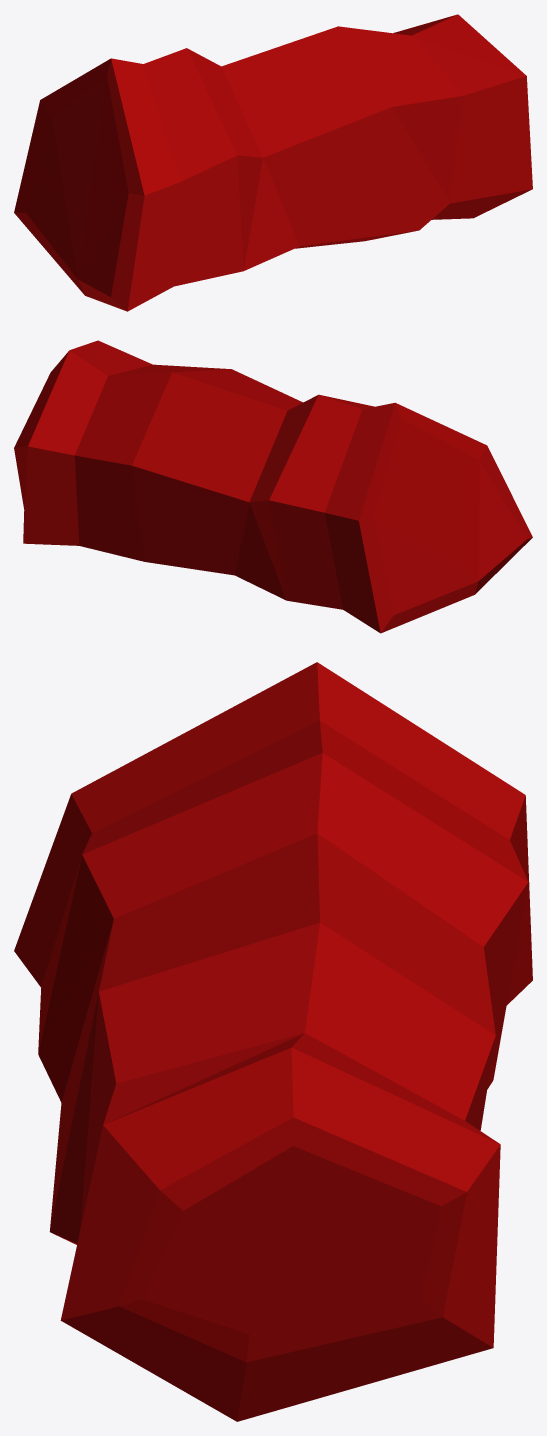
File: Chr_ArmUpperLeft_Male_Static_14.fbx
3 renders of one model, top to bottom at view 1: azimuth 30°, elevation 25°; view 2: azimuth 150°, elevation 25°; view 3: azimuth 270°, elevation 25°, orthographic. The views are drawn at different scales.
Visible parts, largest first — view 1: Chr_ArmUpperLeft_Male_14; view 2: Chr_ArmUpperLeft_Male_14; view 3: Chr_ArmUpperLeft_Male_14.
Boxes of the visible parts, x1,y1,x2,y2 form: Chr_ArmUpperLeft_Male_14: (14, 14, 532, 311); Chr_ArmUpperLeft_Male_14: (14, 340, 532, 633); Chr_ArmUpperLeft_Male_14: (14, 662, 532, 1421).
Bounding box in the file's own units: 32.55 × 16.25 × 17.36.
